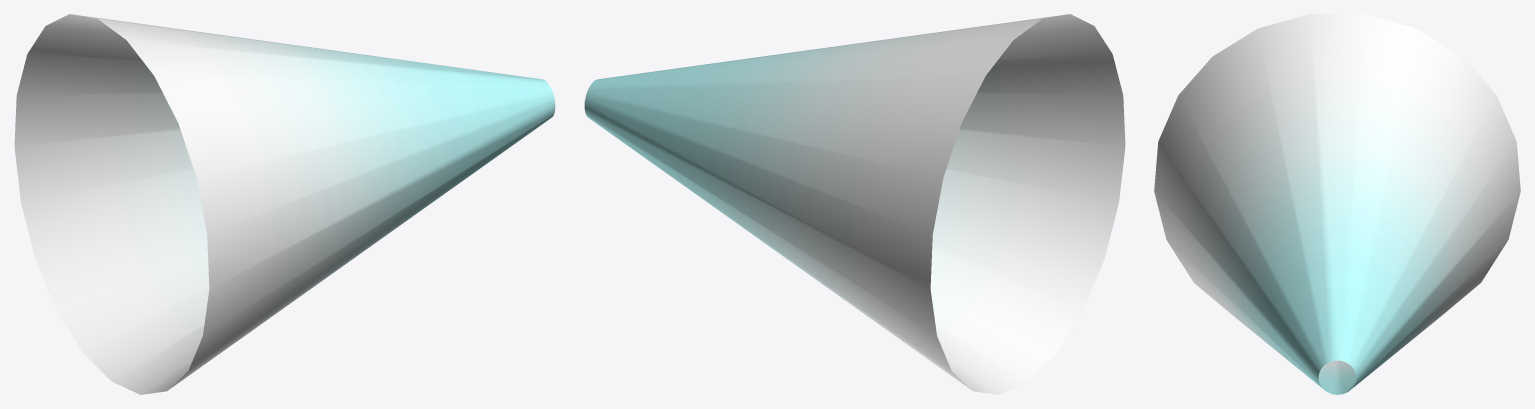
The model's file is reactor_lamp_lightbeam.DAE.
3 renders of one model, left to right at view 1: azimuth 30°, elevation 25°; view 2: azimuth 150°, elevation 25°; view 3: azimuth 270°, elevation 25°, orthographic. The views are drawn at different scales.
Parts seen in each view (by area): view 1: Cylinder004; view 2: Cylinder004; view 3: Cylinder004.
Part boxes in pixels (bbox=[...]): Cylinder004: bbox=[14, 14, 555, 394]; Cylinder004: bbox=[584, 14, 1125, 394]; Cylinder004: bbox=[1154, 14, 1520, 394].
Size of the model in its own units: 8.14 by 6.34 by 6.32.
